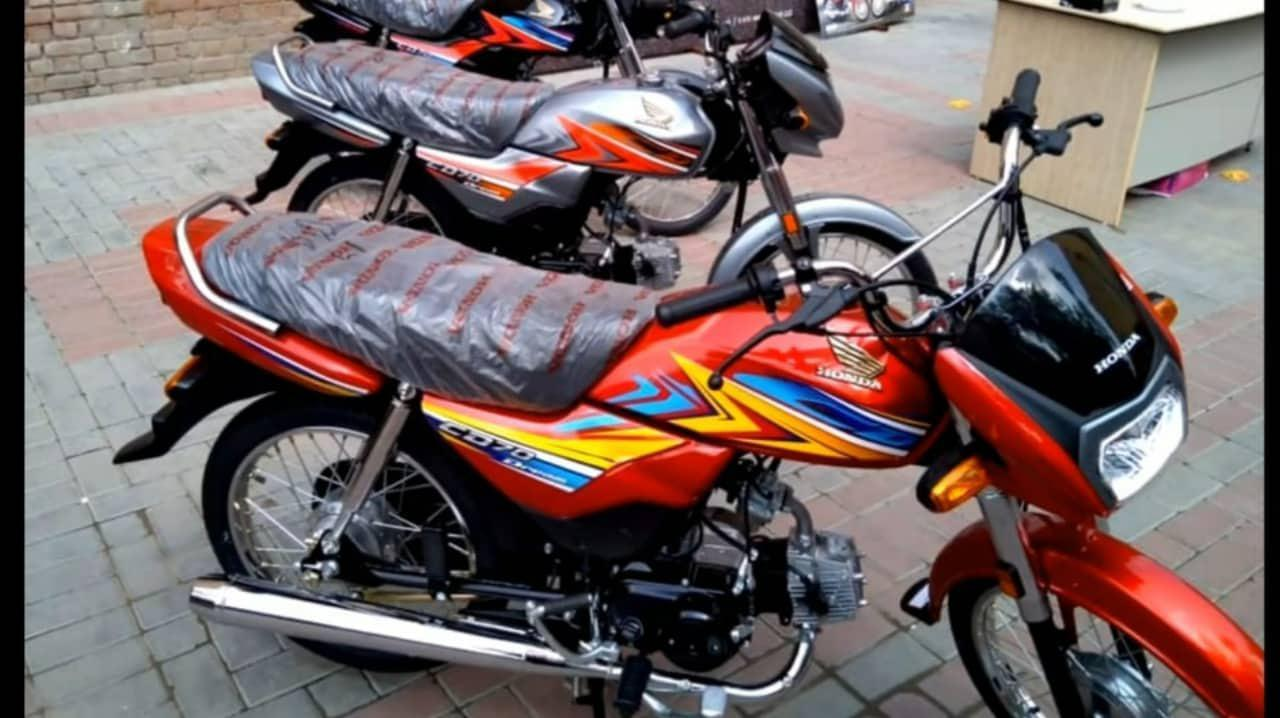motorcycle: (52, 105, 1270, 718), (212, 16, 942, 374)
